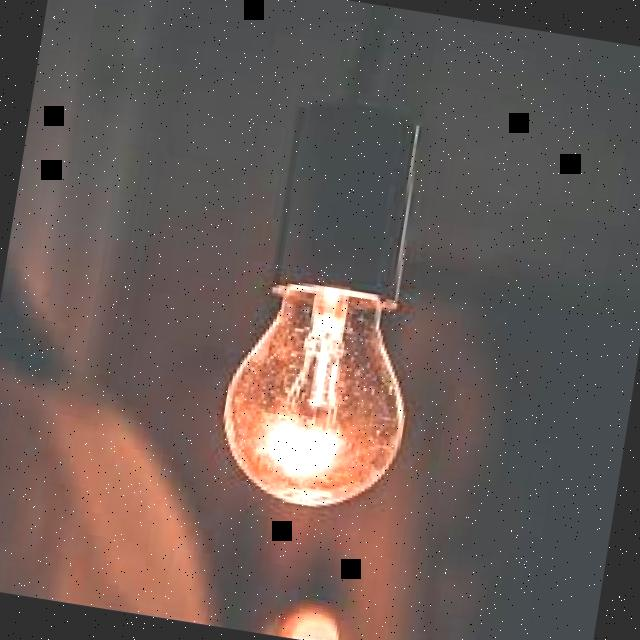light_bulb: (180, 78, 480, 536)
